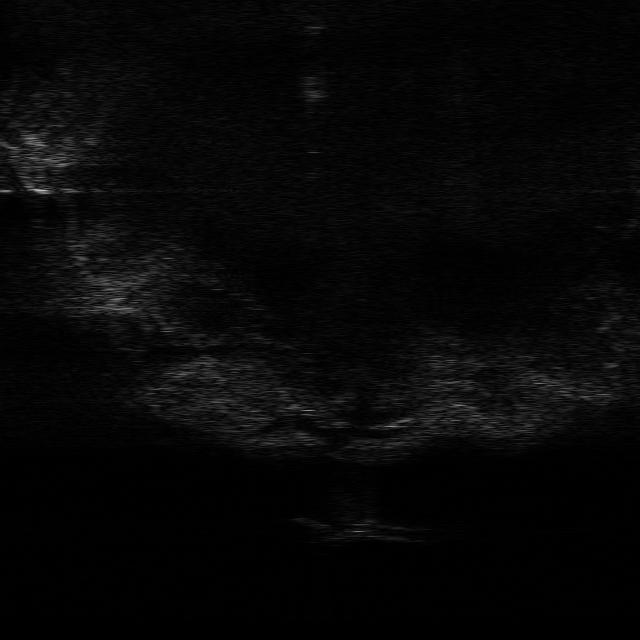plane: (294, 513, 426, 544)
